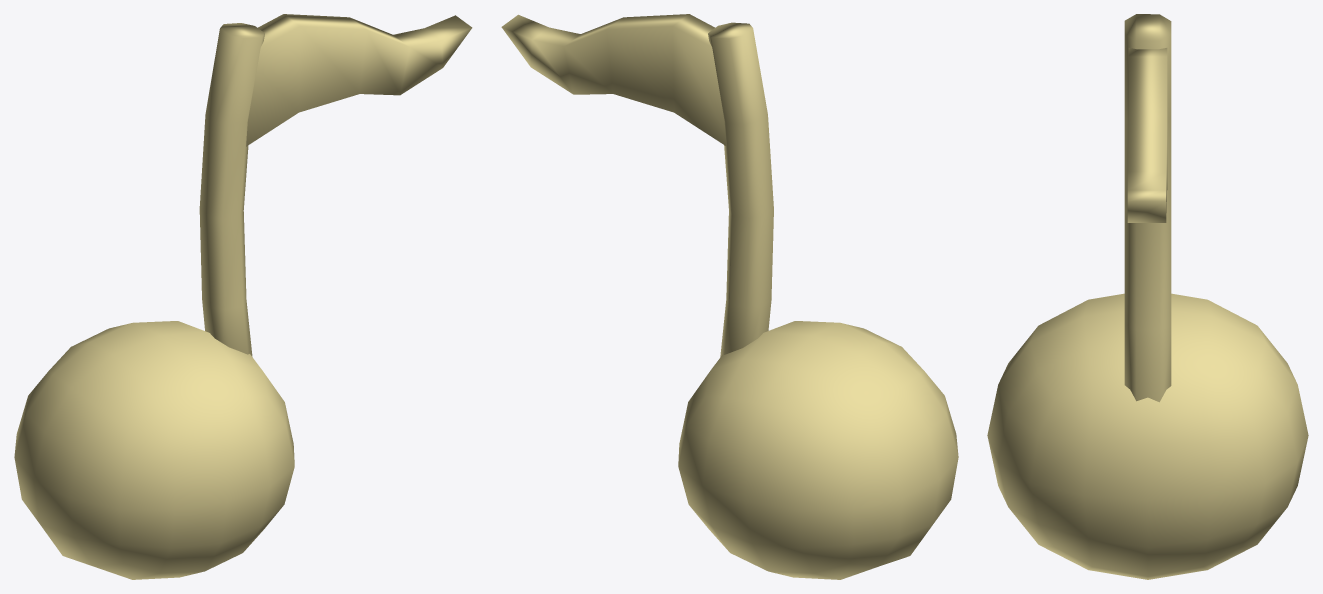
Rendered from notes.fbx.
3 renders of one model, left to right at view 1: azimuth 30°, elevation 25°; view 2: azimuth 150°, elevation 25°; view 3: azimuth 270°, elevation 25°, orthographic. The views are drawn at different scales.
Parts seen in each view (by area): view 1: pCube4; view 2: pCube4; view 3: pCube4.
Part boxes in pixels (<box>): pCube4: <box>14,14,472,579</box>; pCube4: <box>501,14,958,579</box>; pCube4: <box>987,14,1308,579</box>.
Size of the model in its own units: 2.03 by 2.32 by 1.15.
